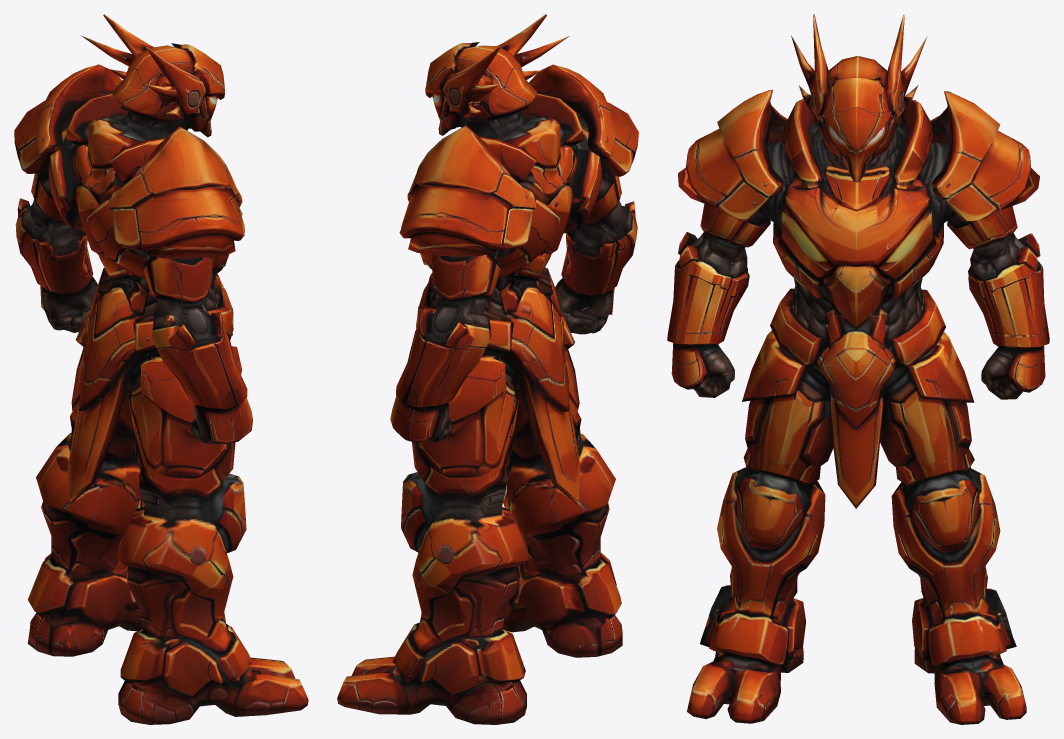
File: tank.glb
The picture shows the model from 3 angles, left to right: view 1: azimuth 30°, elevation 25°; view 2: azimuth 150°, elevation 25°; view 3: azimuth 270°, elevation 25°; orthographic projection.
Parts seen in each view (by area): view 1: tripo_node_6652195f-1d53-4acd-b5e0-da4e23c8b851; view 2: tripo_node_6652195f-1d53-4acd-b5e0-da4e23c8b851; view 3: tripo_node_6652195f-1d53-4acd-b5e0-da4e23c8b851.
Part boxes in pixels (x1,y1,x2,y2): tripo_node_6652195f-1d53-4acd-b5e0-da4e23c8b851: [14, 14, 308, 724]; tripo_node_6652195f-1d53-4acd-b5e0-da4e23c8b851: [337, 14, 638, 724]; tripo_node_6652195f-1d53-4acd-b5e0-da4e23c8b851: [667, 14, 1049, 724].
Size of the model in its own units: 0.2811 by 0.998 by 0.5297.
Materials: 1 (1 with a texture image).
